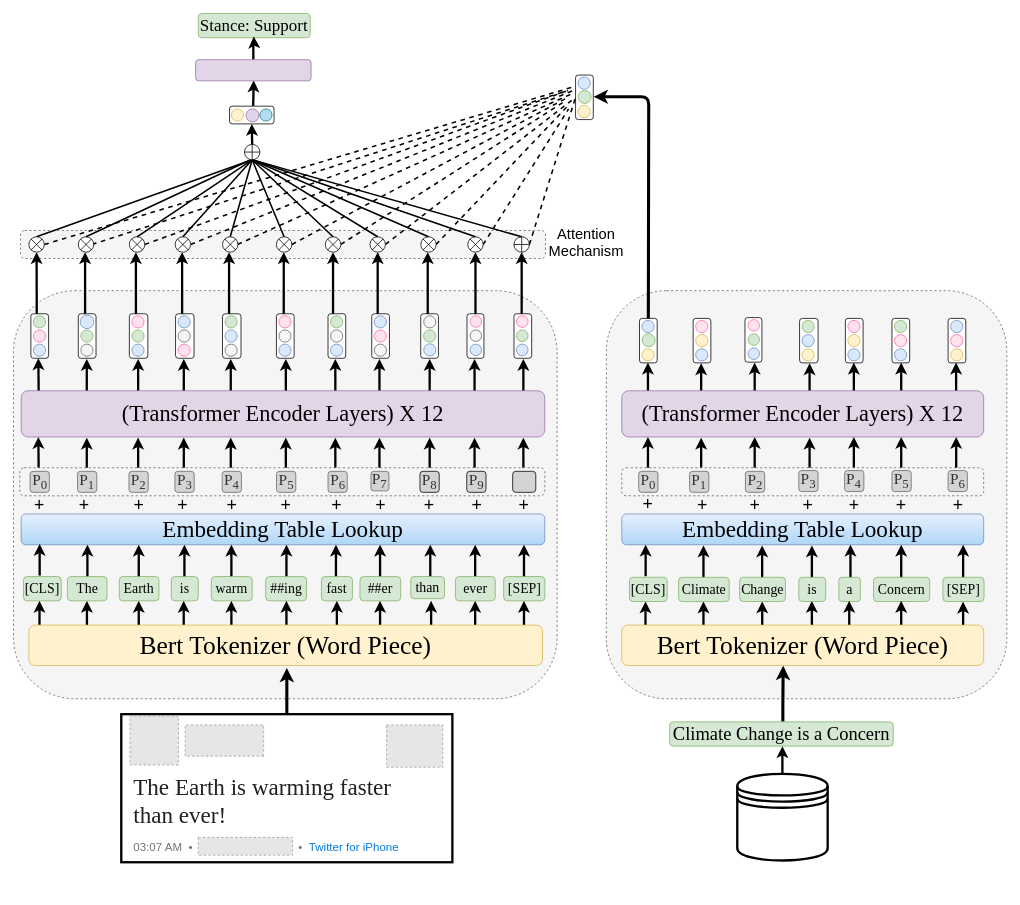
Image size: 1020x905. Some labels were removed from this diagram. Grey dashed boxes stand in for pictures. The box of each missing label's shape, as (x1, y1, x2, y2) in pixels:
Linear: (195, 59, 311, 81)
P 10: (512, 471, 536, 492)
Targets: (736, 772, 828, 861)
